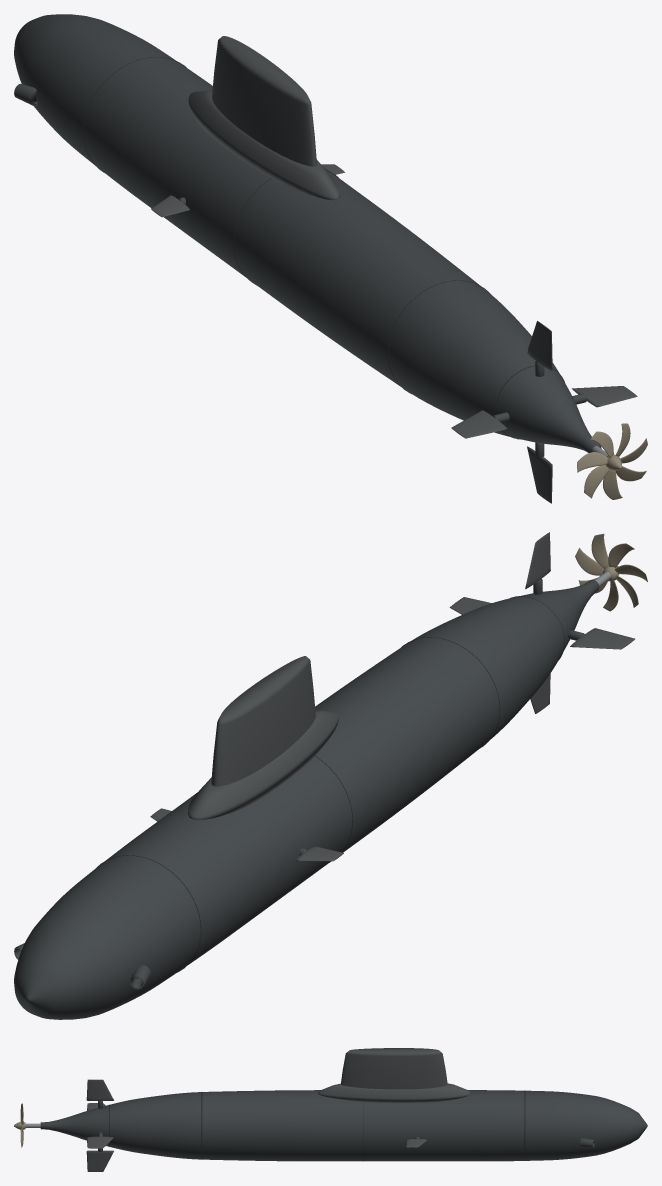
The model's file is generic-attack-submarine.glb.
3 views of the same model, one above another, from view 1: azimuth 30°, elevation 25°; view 2: azimuth 150°, elevation 25°; view 3: azimuth 270°, elevation 25° (orthographic). The views are drawn at different scales.
Parts seen in each view (by area): view 1: pressure_hull_fairing, sail, sail_root_fairing, stern_dive_port, steering_upper, stern_dive_starboard, steering_lower; view 2: pressure_hull_fairing, sail, sail_root_fairing, stern_dive_port, steering_upper; view 3: pressure_hull_fairing, sail, sail_root_fairing, steering_lower, steering_upper, stern_dive_starboard.
Boxes of the visible parts, x1,y1,x2,y2 form: pressure_hull_fairing: (14, 14, 601, 452); sail: (212, 36, 316, 166); sail_root_fairing: (188, 90, 339, 200); stern_dive_port: (451, 410, 507, 438); steering_upper: (527, 321, 552, 371); stern_dive_starboard: (572, 386, 637, 407); steering_lower: (527, 446, 552, 503); pressure_hull_fairing: (14, 580, 599, 1019); sail: (211, 656, 315, 786); sail_root_fairing: (188, 710, 338, 819); stern_dive_port: (570, 628, 635, 649); steering_upper: (525, 532, 550, 589); pressure_hull_fairing: (40, 1090, 647, 1161); sail: (341, 1048, 447, 1089); sail_root_fairing: (318, 1083, 470, 1102); steering_lower: (86, 1150, 113, 1171); steering_upper: (86, 1079, 113, 1100); stern_dive_starboard: (86, 1136, 113, 1148).
Size of the model in its own units: 14.7 by 17.4 by 82.45.
